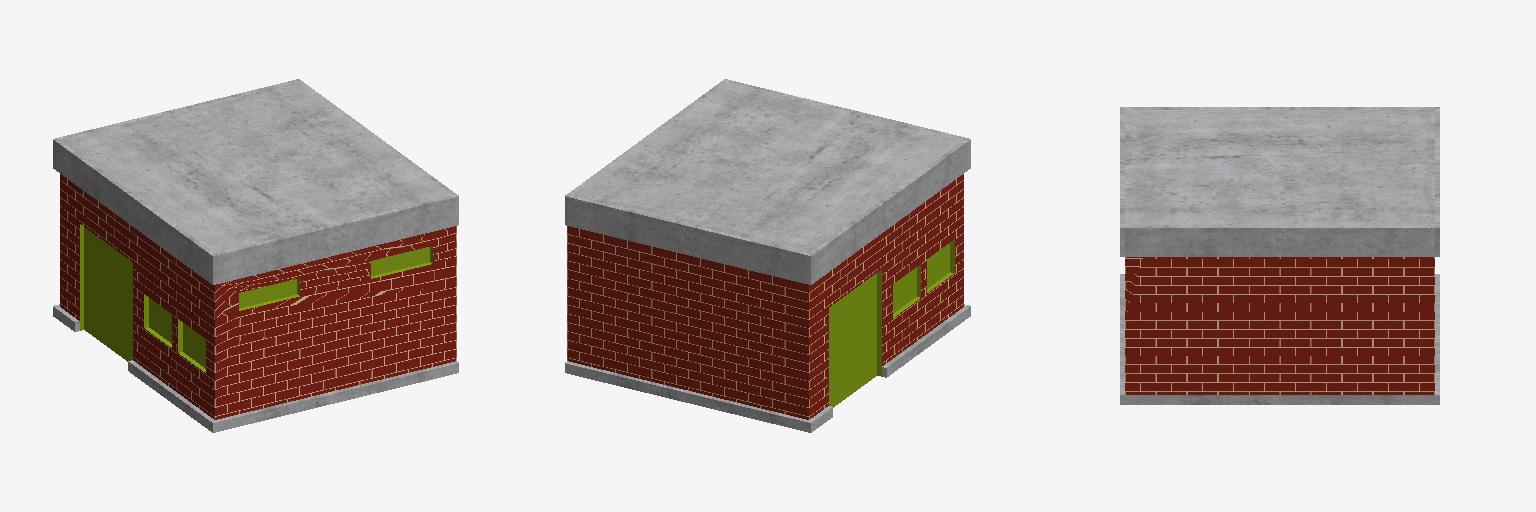
3 views of the same model, side by side, from view 1: azimuth 30°, elevation 25°; view 2: azimuth 150°, elevation 25°; view 3: azimuth 270°, elevation 25° (orthographic).
Visible parts, largest first — view 1: zoo_storage; view 2: zoo_storage; view 3: zoo_storage.
Part boxes in pixels (x1,y1,x2,y2): zoo_storage: (53,79,458,432); zoo_storage: (565,79,970,432); zoo_storage: (1120,107,1439,404).
Size of the model in its own units: 30.39 by 20.83 by 34.22.
Materials: 3 (2 with a texture image).